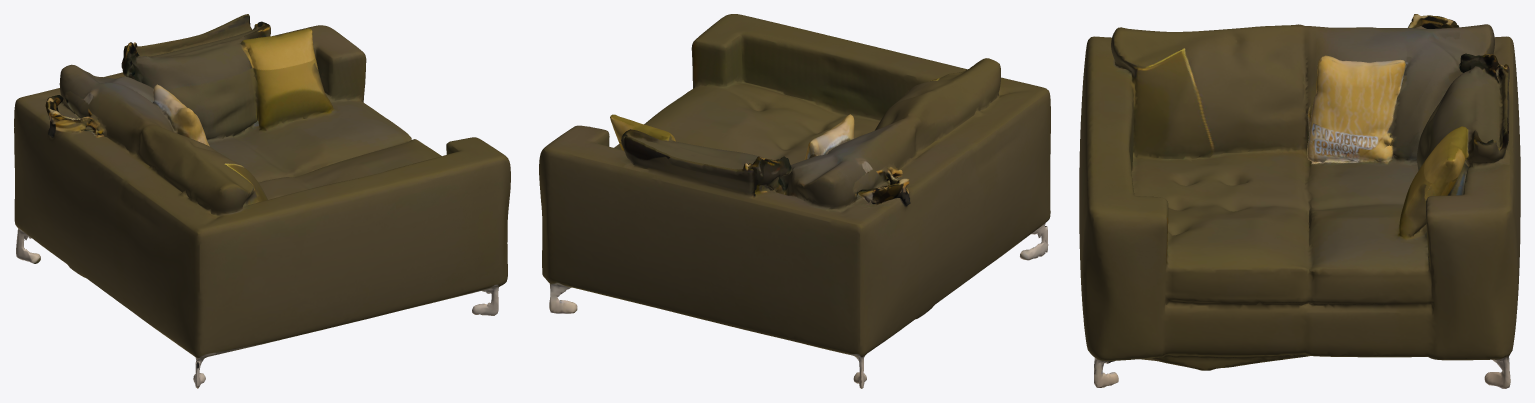
The model's file is living_1026.glb.
3 views of the same model, side by side, from view 1: azimuth 30°, elevation 25°; view 2: azimuth 150°, elevation 25°; view 3: azimuth 270°, elevation 25° (orthographic). The views are drawn at different scales.
Visible parts, largest first — view 1: tripo_node_8c882e5b-41ac-4833-8b06-ee443ae290de; view 2: tripo_node_8c882e5b-41ac-4833-8b06-ee443ae290de; view 3: tripo_node_8c882e5b-41ac-4833-8b06-ee443ae290de.
Boxes of the visible parts, x1,y1,x2,y2 form: tripo_node_8c882e5b-41ac-4833-8b06-ee443ae290de: (14, 14, 510, 388); tripo_node_8c882e5b-41ac-4833-8b06-ee443ae290de: (539, 14, 1050, 388); tripo_node_8c882e5b-41ac-4833-8b06-ee443ae290de: (1079, 14, 1520, 388).
Size of the model in its own units: 0.9977 by 0.5659 by 1.
Materials: 1 (1 with a texture image).
